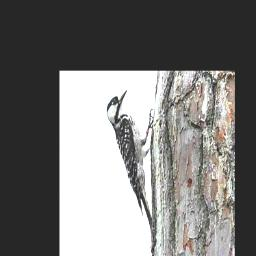Woodpecker: (105, 89, 155, 243)
